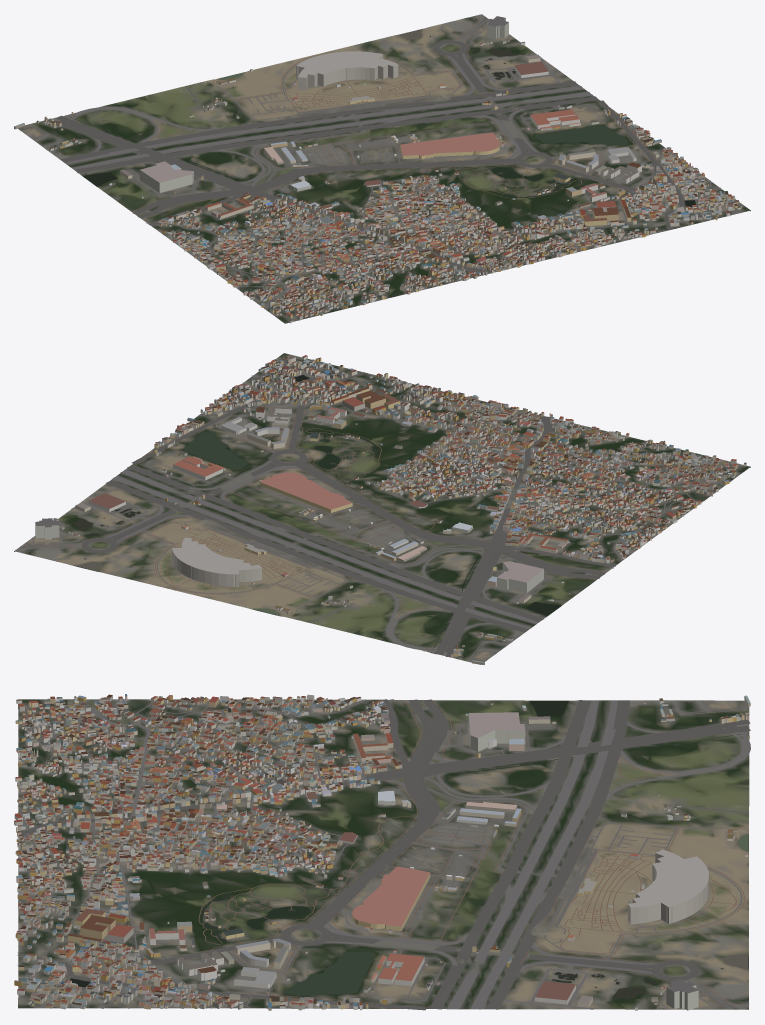
3 views of the same model, one above another, from view 1: azimuth 30°, elevation 25°; view 2: azimuth 150°, elevation 25°; view 3: azimuth 270°, elevation 25° (orthographic). The views are drawn at different scales.
Visible parts, largest first — view 1: ground, buildings, roads, water; view 2: ground, buildings, roads, water; view 3: ground, buildings, roads, water.
Boxes of the visible parts, box(x1,y1,x2,y2) form: ground: box(18, 14, 750, 323); buildings: box(14, 16, 741, 323); roads: box(17, 16, 742, 320); water: box(65, 28, 696, 206); ground: box(14, 353, 750, 664); buildings: box(35, 355, 746, 664); roads: box(17, 356, 739, 662); water: box(73, 375, 561, 652); ground: box(18, 699, 749, 1009); buildings: box(14, 694, 750, 1010); roads: box(17, 699, 750, 1010); water: box(70, 700, 748, 999).
Bounding box in the file's own units: 1418 × 40.18 × 1414.
